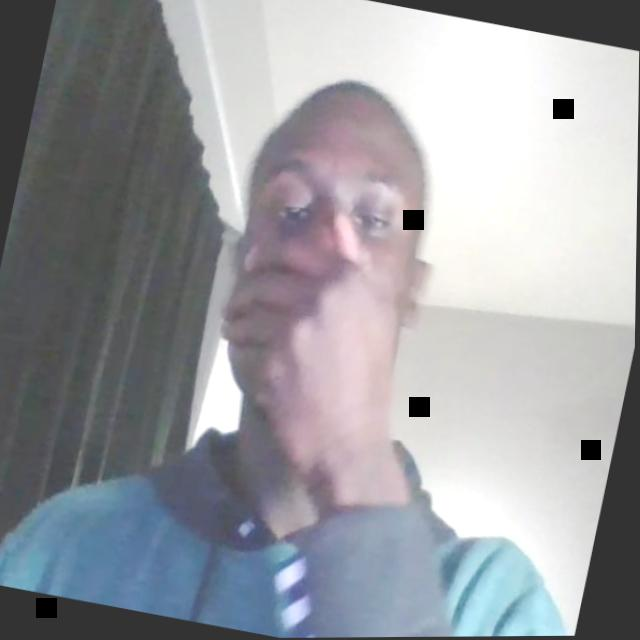NO-Mask: (225, 108, 443, 367)
